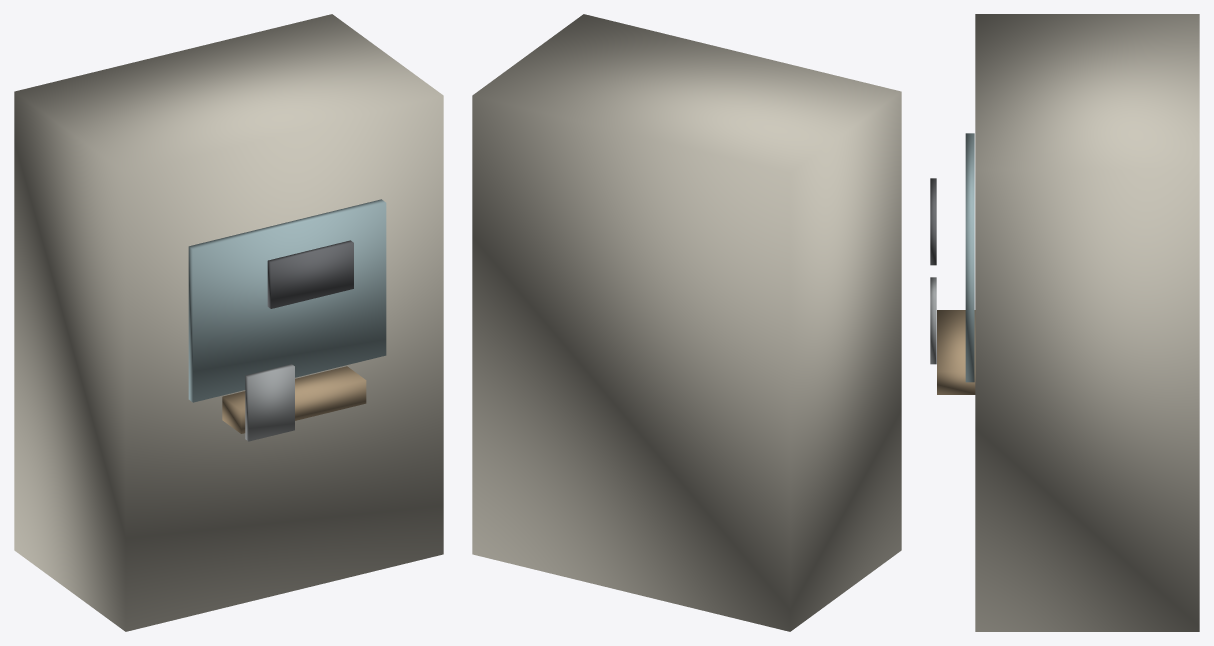
The model's file is ticket_booth__weathered.glb.
The picture shows the model from 3 angles, left to right: view 1: azimuth 30°, elevation 25°; view 2: azimuth 150°, elevation 25°; view 3: azimuth 270°, elevation 25°; orthographic projection.
Parts seen in each view (by area): view 1: world; view 2: world; view 3: world.
Boxes of the visible parts, x1=… form: world: x1=14, y1=14, x2=443, y2=631; world: x1=472, y1=14, x2=901, y2=631; world: x1=930, y1=14, x2=1199, y2=631.
Bounding box in the file's own units: 1.4 × 1.93 × 1.02.
